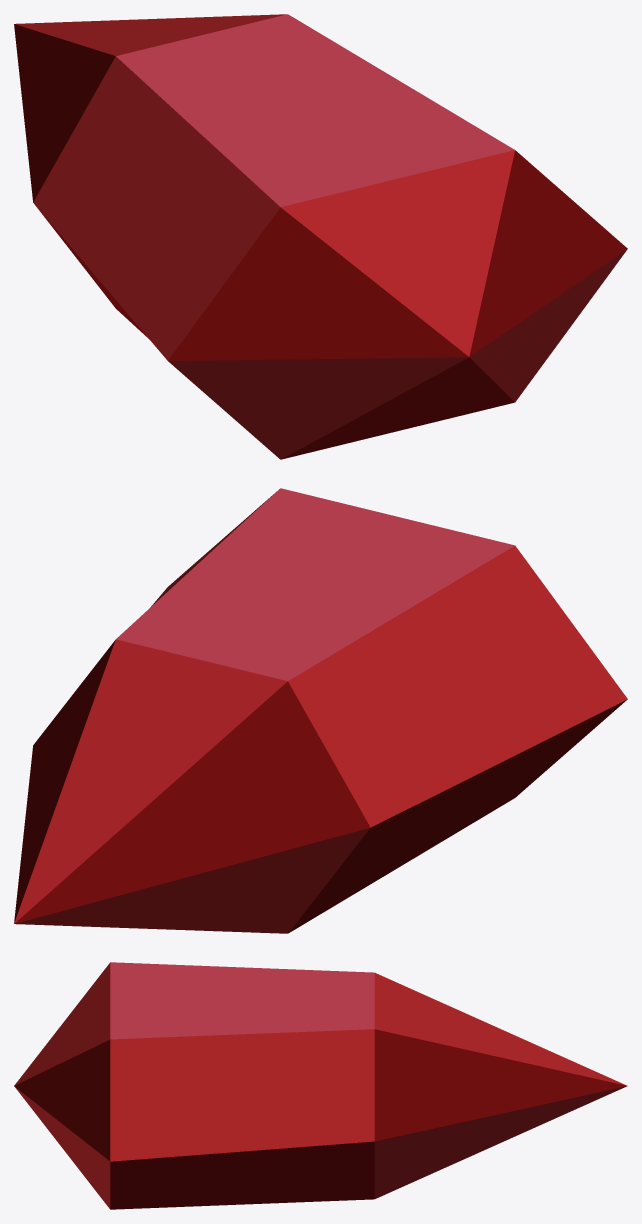
The model's file is Jewel_F.fbx.
The picture shows the model from 3 angles, top to bottom: view 1: azimuth 30°, elevation 25°; view 2: azimuth 150°, elevation 25°; view 3: azimuth 270°, elevation 25°; orthographic projection. The views are drawn at different scales.
Visible parts, largest first — view 1: Jewel_F; view 2: Jewel_F; view 3: Jewel_F.
Boxes of the visible parts, left/top/right/bottom form: Jewel_F: left=14, top=14, right=627, bottom=459; Jewel_F: left=14, top=488, right=627, bottom=933; Jewel_F: left=14, top=962, right=627, bottom=1209.
Size of the model in its own units: 0.1568 by 0.0822 by 0.2688.
